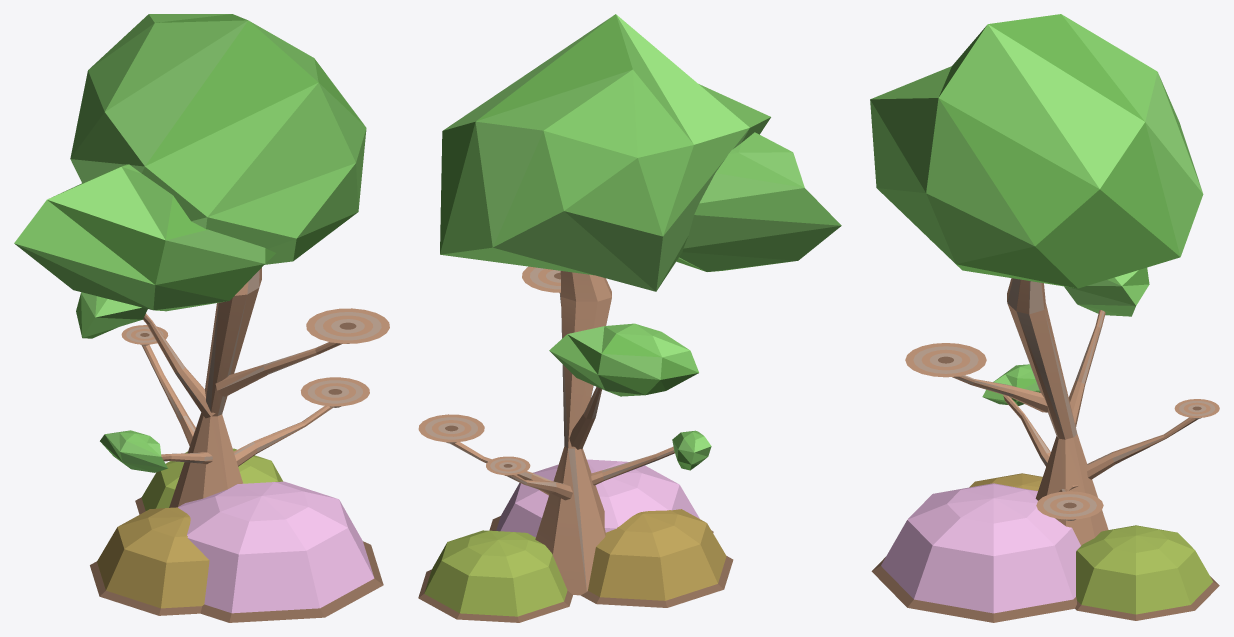
File: landingTree.fbx
3 renders of one model, left to right at view 1: azimuth 30°, elevation 25°; view 2: azimuth 150°, elevation 25°; view 3: azimuth 270°, elevation 25°, orthographic. The views are drawn at different scales.
Parts seen in each view (by area): view 1: landingTrees; view 2: landingTrees; view 3: landingTrees.
Part boxes in pixels (box(x1,y1,x2,y2)): landingTrees: box(14, 14, 389, 622); landingTrees: box(418, 14, 841, 622); landingTrees: box(870, 14, 1219, 622).
Bounding box in the file's own units: 354 × 478 × 281.
